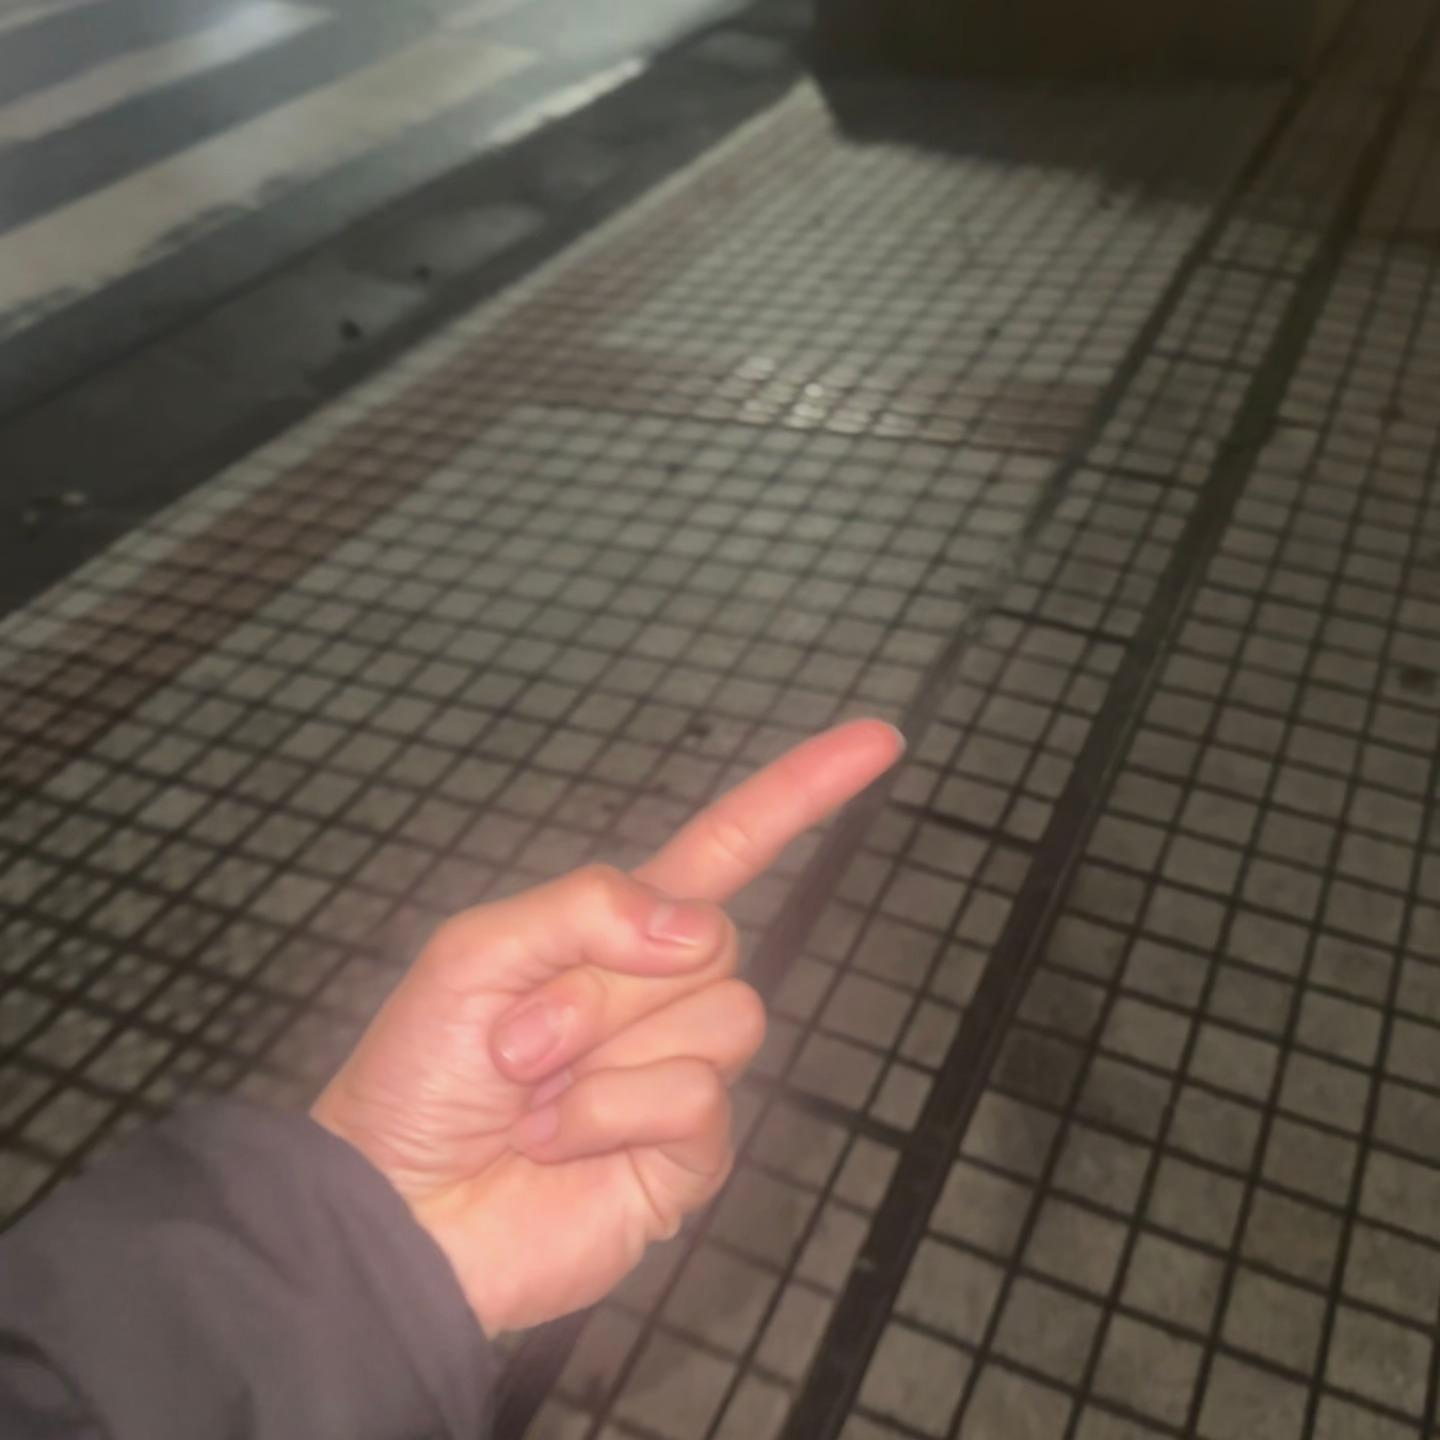without_gloves: (341, 678, 942, 1305)
